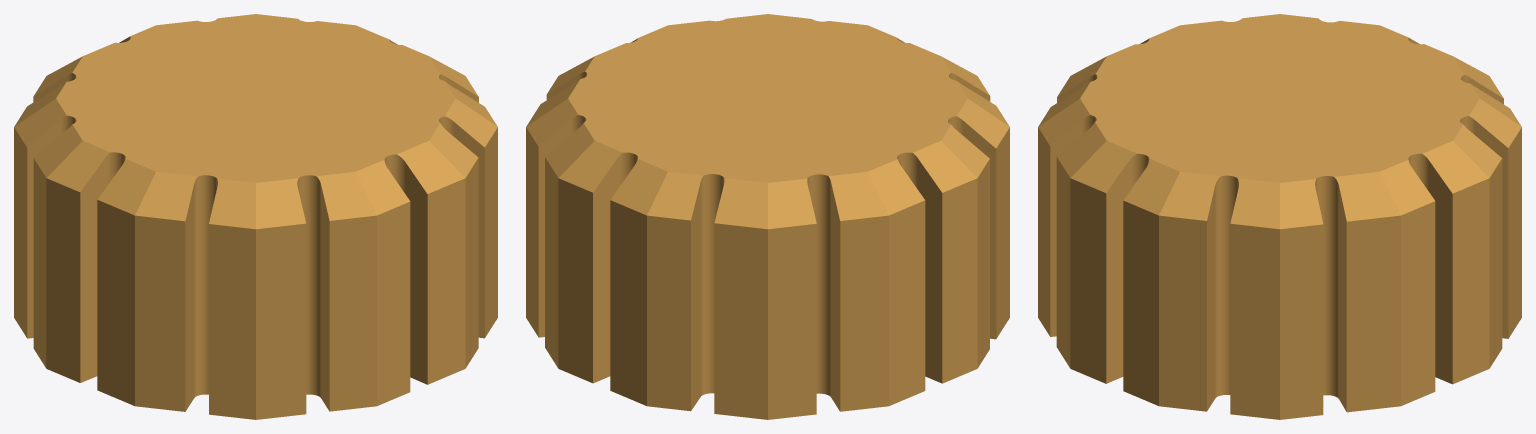
The model's file is knob.glb.
The picture shows the model from 3 angles, left to right: view 1: azimuth 30°, elevation 25°; view 2: azimuth 150°, elevation 25°; view 3: azimuth 270°, elevation 25°; orthographic projection.
Parts seen in each view (by area): view 1: Mesh_Mesh_head_geo.001_lambert2SG.001; view 2: Mesh_Mesh_head_geo.001_lambert2SG.001; view 3: Mesh_Mesh_head_geo.001_lambert2SG.001.
Part boxes in pixels (x1,y1,x2,y2): Mesh_Mesh_head_geo.001_lambert2SG.001: (14, 14, 497, 419); Mesh_Mesh_head_geo.001_lambert2SG.001: (526, 14, 1009, 419); Mesh_Mesh_head_geo.001_lambert2SG.001: (1038, 14, 1521, 419).
Bounding box in the file's own units: 0.02 × 0.01 × 0.02.
